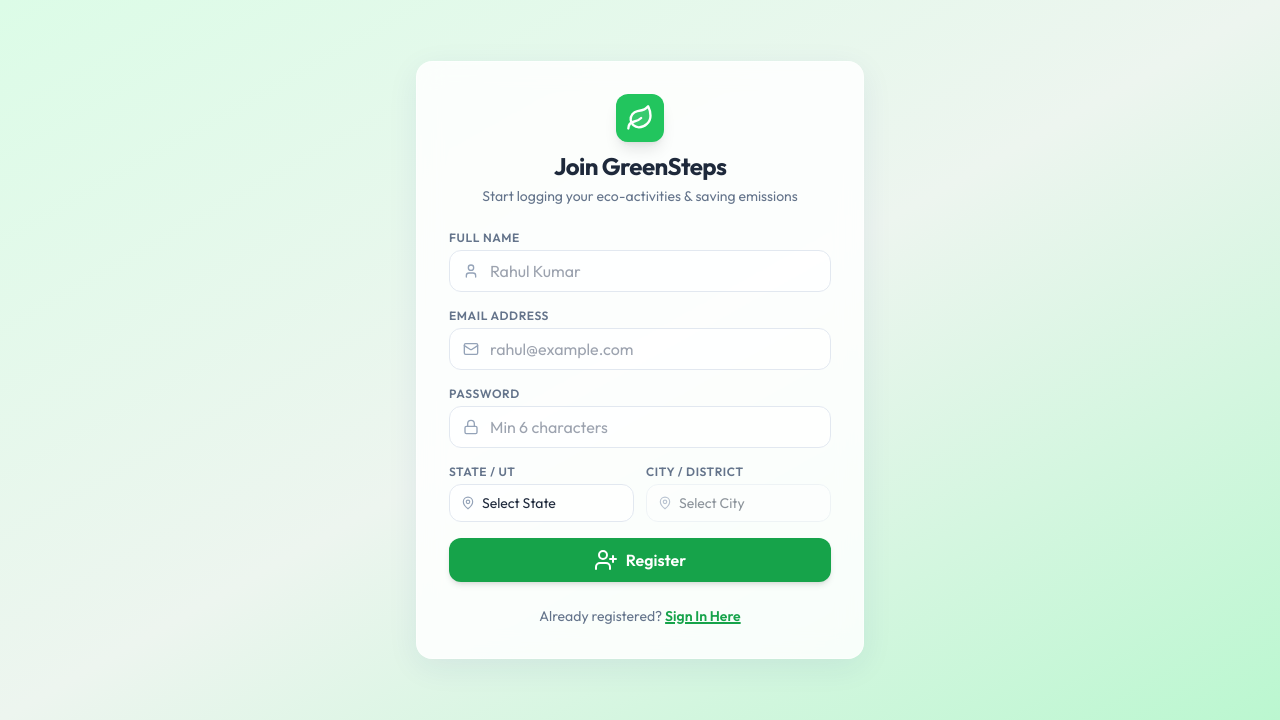
Test: Register Component › shows validation error when fields are empty on submit
Click the button "Register".
click(640, 560)  # box [449, 538, 831, 582]
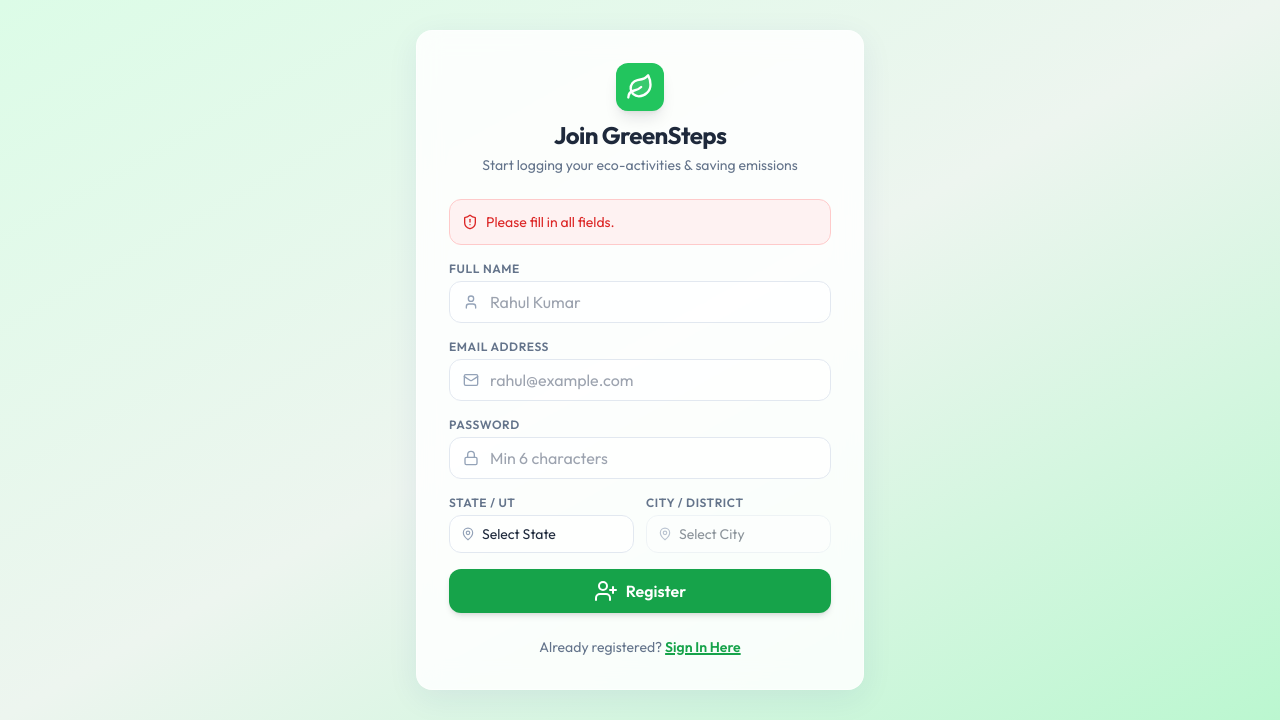
Now the text "Please fill in all fields." is shown, box [486, 212, 615, 232]
